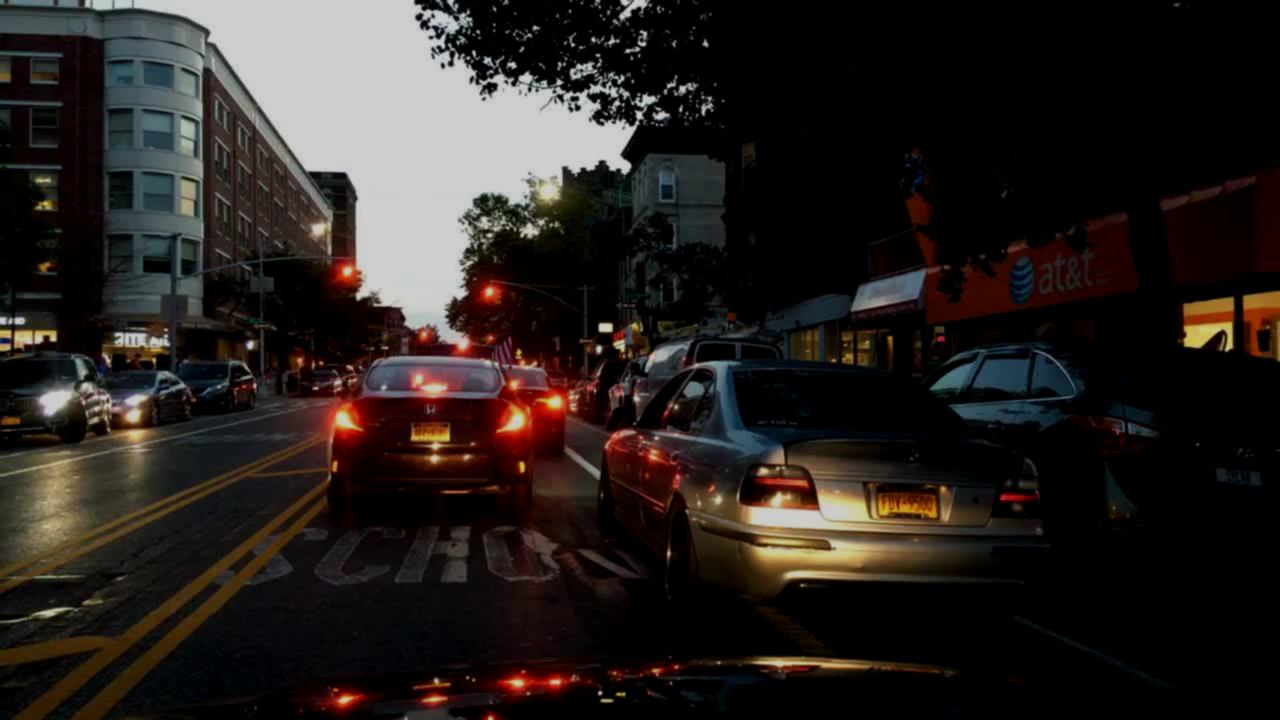Honda: (422, 402, 441, 419)
Hyundai: (1231, 440, 1261, 467)
bmw: (902, 444, 927, 467)
